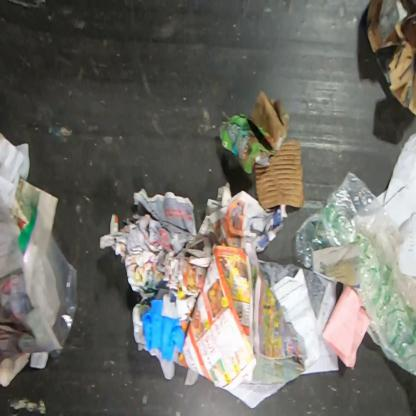cardboard: (216, 90, 290, 174), (364, 0, 415, 119), (254, 139, 304, 209)
soft_plastic: (293, 169, 415, 380), (14, 201, 80, 349), (49, 348, 63, 364)
